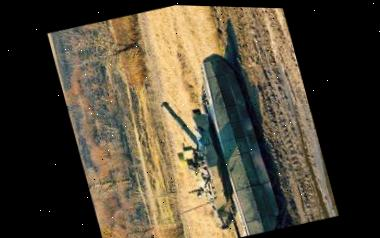tank: (149, 42, 288, 238)
